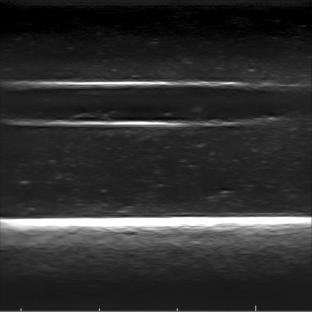vessel: (0, 77, 276, 129)
